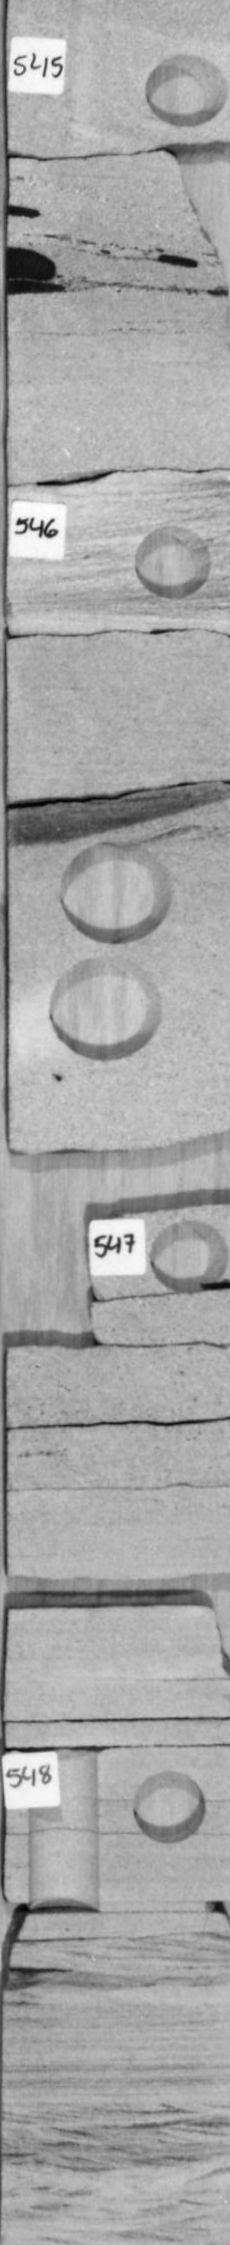hplug: (130, 514, 223, 607), (125, 1758, 211, 1853), (139, 48, 230, 133), (144, 1216, 230, 1297)
scal: (53, 837, 179, 951), (46, 955, 172, 1065)
vplug: (23, 1741, 111, 1916), (6, 1209, 111, 1355), (55, 4, 120, 167)
